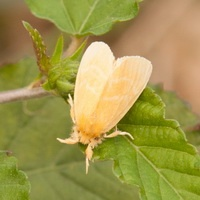insect: (58, 42, 151, 172)
